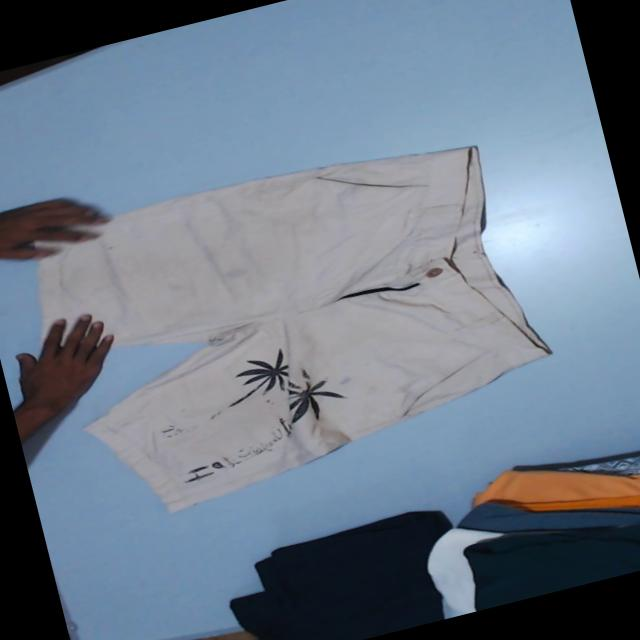new-garment: (39, 146, 548, 510)
